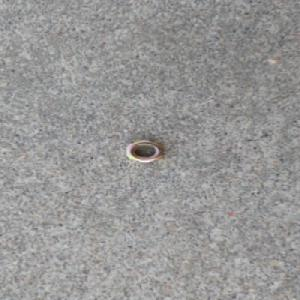Nut: (125, 139, 164, 163)
